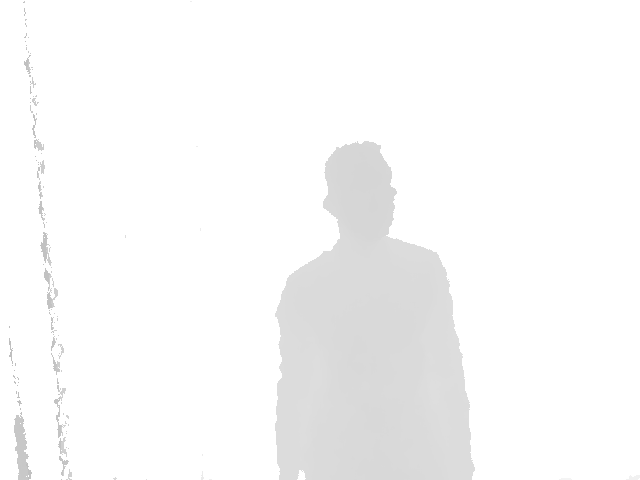head: (322, 141, 397, 237)
person: (273, 141, 475, 480)
